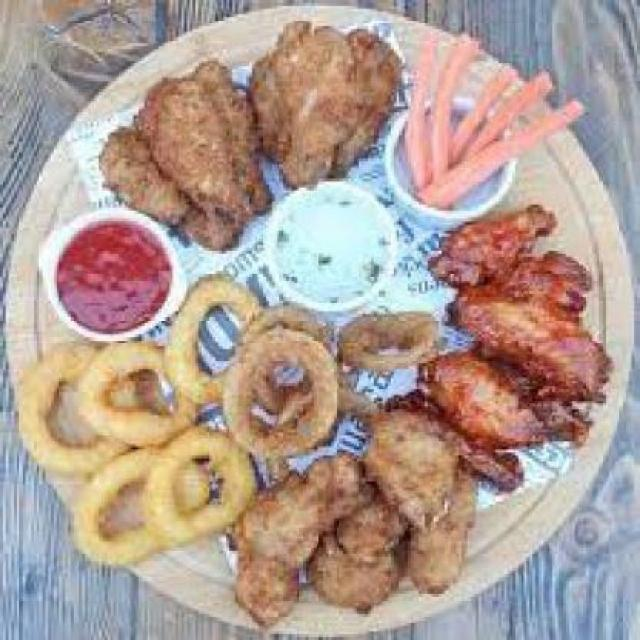chicken wings: (227, 196, 605, 635), (91, 14, 411, 237)
onion rings: (25, 282, 442, 568)
